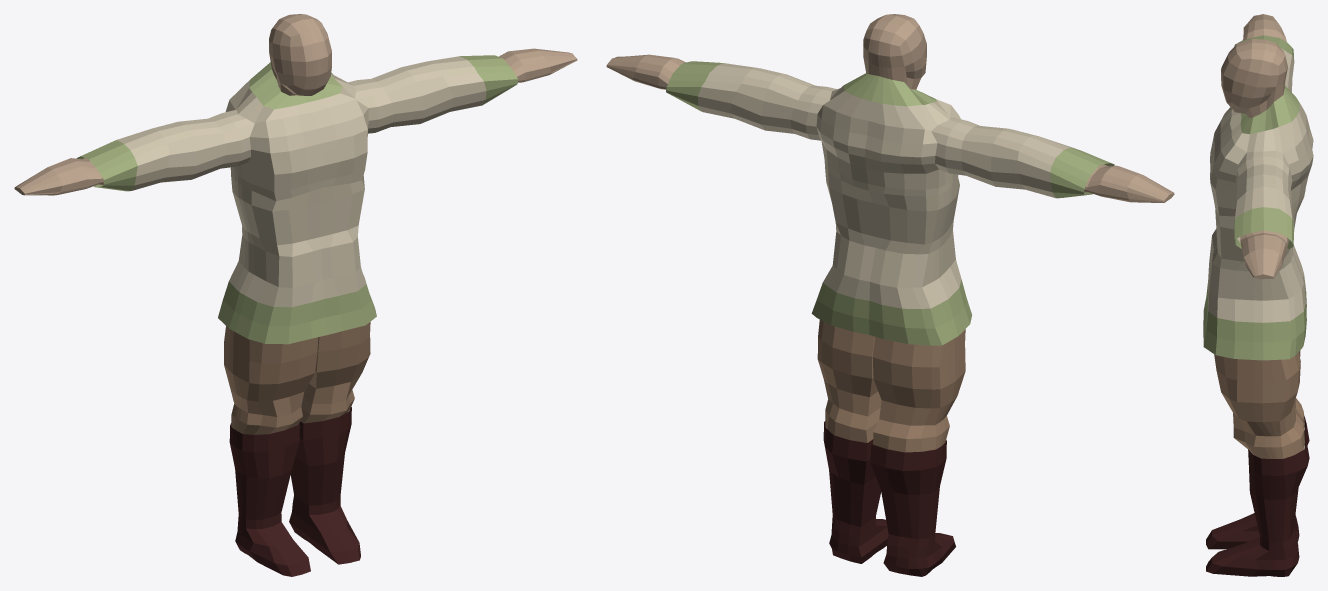
Rendered from MODEL_Warrior.fbx.
3 views of the same model, side by side, from view 1: azimuth 30°, elevation 25°; view 2: azimuth 150°, elevation 25°; view 3: azimuth 270°, elevation 25° (orthographic). The views are drawn at different scales.
Parts seen in each view (by area): view 1: WarriorShirt, WarriorShoes, WarriorPants, WarriorBody; view 2: WarriorShirt, WarriorPants, WarriorShoes, WarriorBody; view 3: WarriorShirt, WarriorShoes, WarriorPants, WarriorBody.
Part boxes in pixels (left/top/right/bottom): WarriorShirt: left=76, top=55, right=517, bottom=344; WarriorShoes: left=229, top=407, right=360, bottom=576; WarriorPants: left=224, top=322, right=370, bottom=434; WarriorBody: left=14, top=14, right=577, bottom=411; WarriorShirt: left=666, top=61, right=1114, bottom=345; WarriorPants: left=817, top=319, right=965, bottom=452; WarriorShoes: left=823, top=421, right=955, bottom=576; WarriorBody: left=606, top=14, right=1174, bottom=428; WarriorShirt: left=1203, top=35, right=1313, bottom=360; WarriorShoes: left=1206, top=416, right=1309, bottom=576; WarriorPants: left=1214, top=350, right=1304, bottom=458; WarriorBody: left=1221, top=14, right=1304, bottom=454.
Bounding box in the file's own units: 2950 × 2712 × 527.
1 material, 1 textured.
